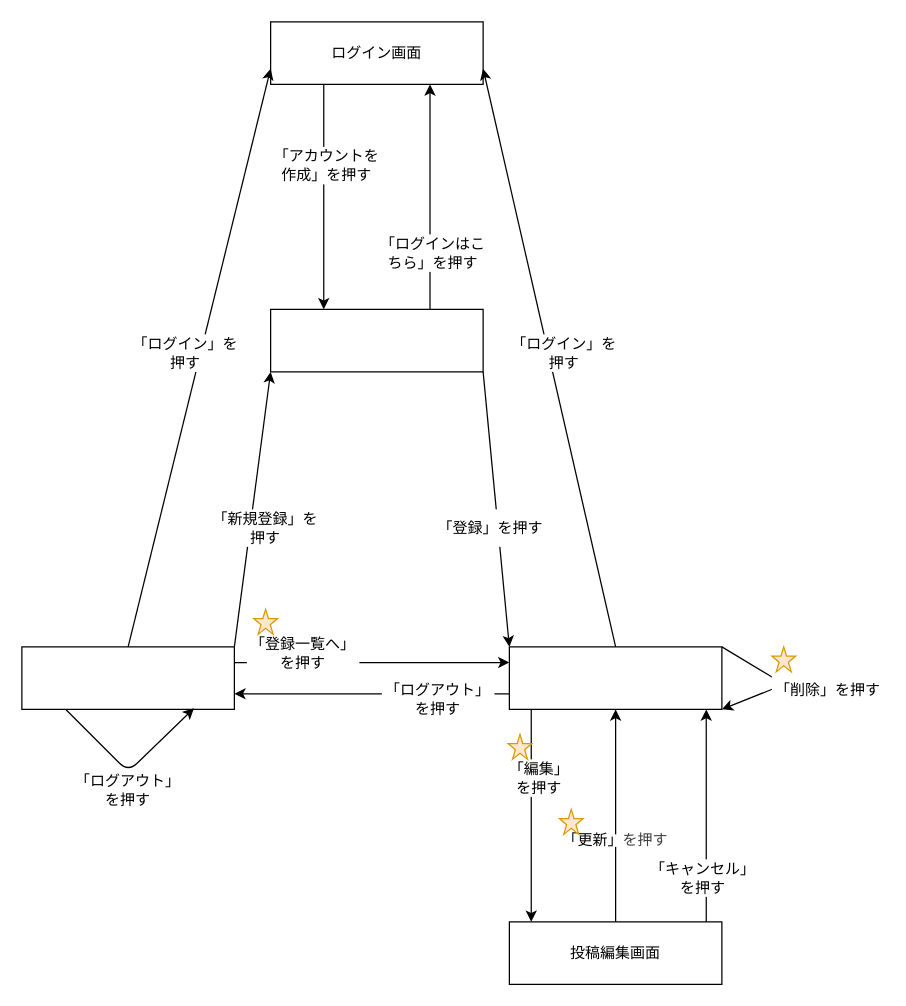
The diagram is 906 pixels wide and 1006 high, and some of its shapes have lost their labels. The centre of each missing label's shape, as x and y in pixels:
トップ画面: the point at 127,677
ユーザー登録画面: the point at 376,340
投稿一覧画面: the point at 615,677
